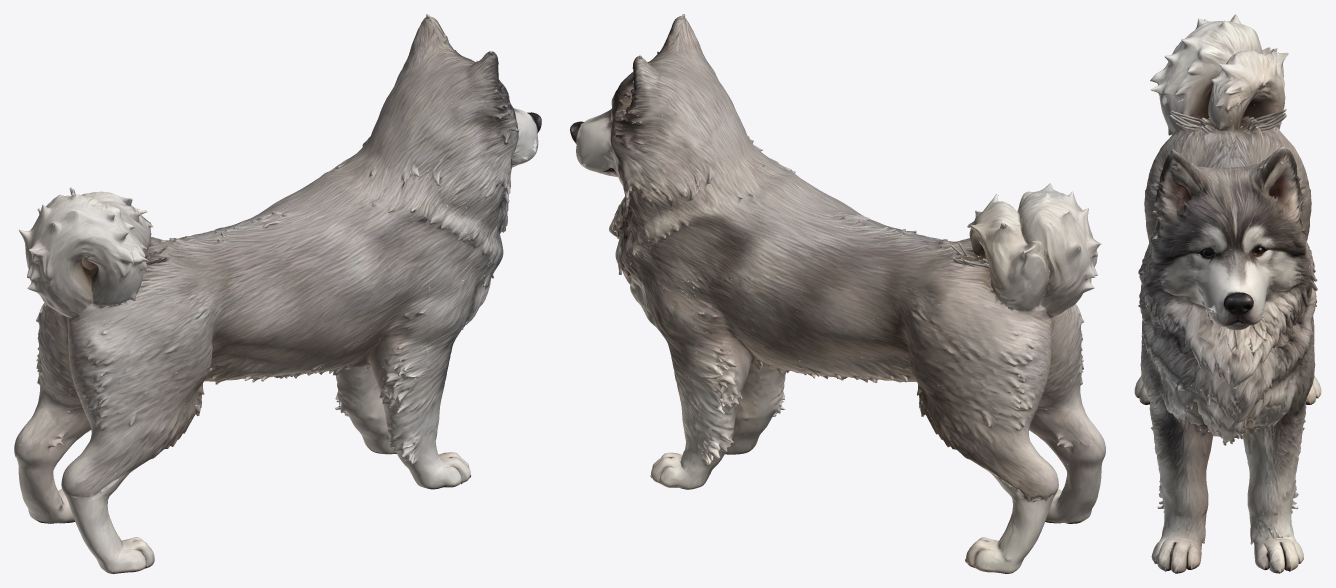
Rendered from husky.glb.
3 renders of one model, left to right at view 1: azimuth 30°, elevation 25°; view 2: azimuth 150°, elevation 25°; view 3: azimuth 270°, elevation 25°, orthographic. The views are drawn at different scales.
Visible parts, largest first — view 1: AlaskanMalamute; view 2: AlaskanMalamute; view 3: AlaskanMalamute.
Part boxes in pixels (bbox=[...]): AlaskanMalamute: bbox=[14, 14, 541, 573]; AlaskanMalamute: bbox=[570, 14, 1105, 573]; AlaskanMalamute: bbox=[1134, 14, 1321, 573].
Size of the model in its own units: 0.9798 by 0.7607 by 0.2931.
Materials: 1 (1 with a texture image).
